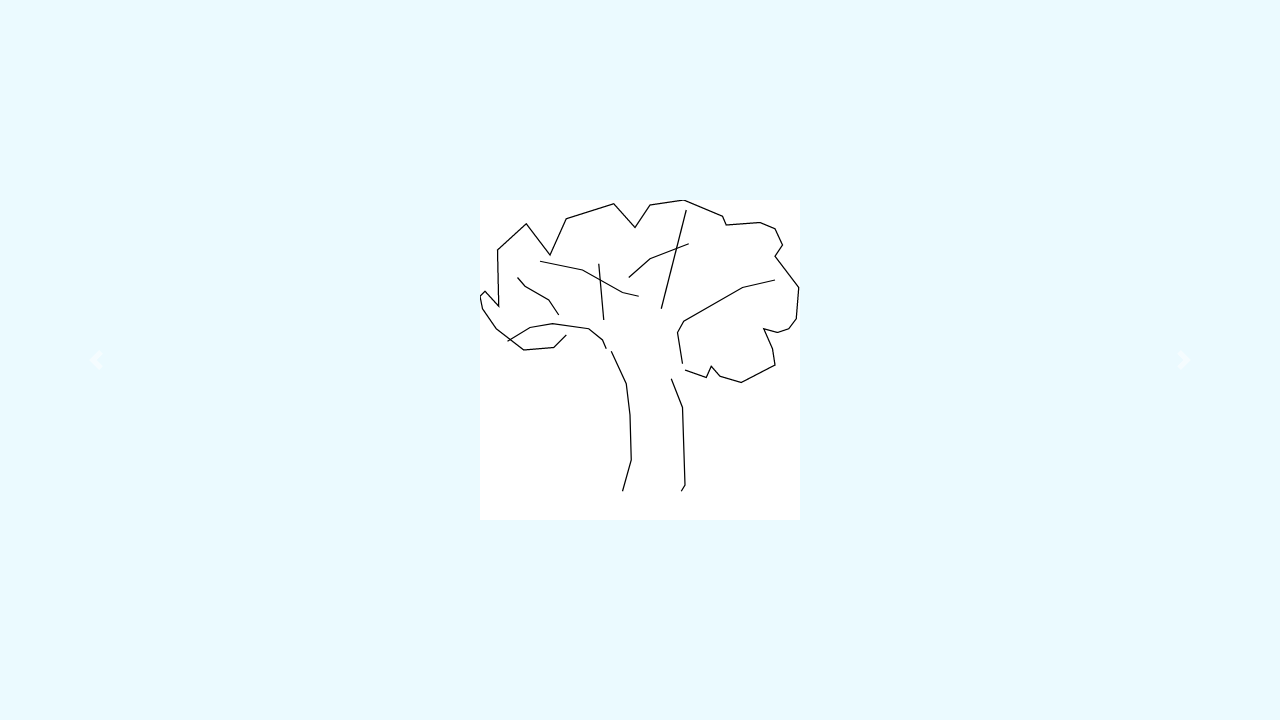tree: (473, 195, 808, 499)
